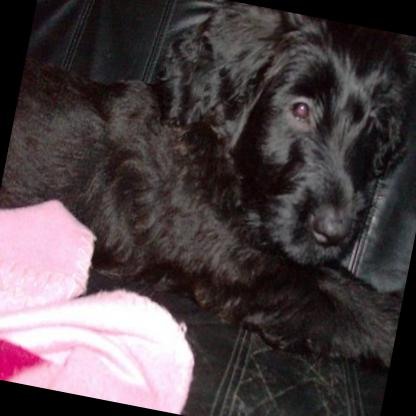briard: (0, 0, 416, 369)
